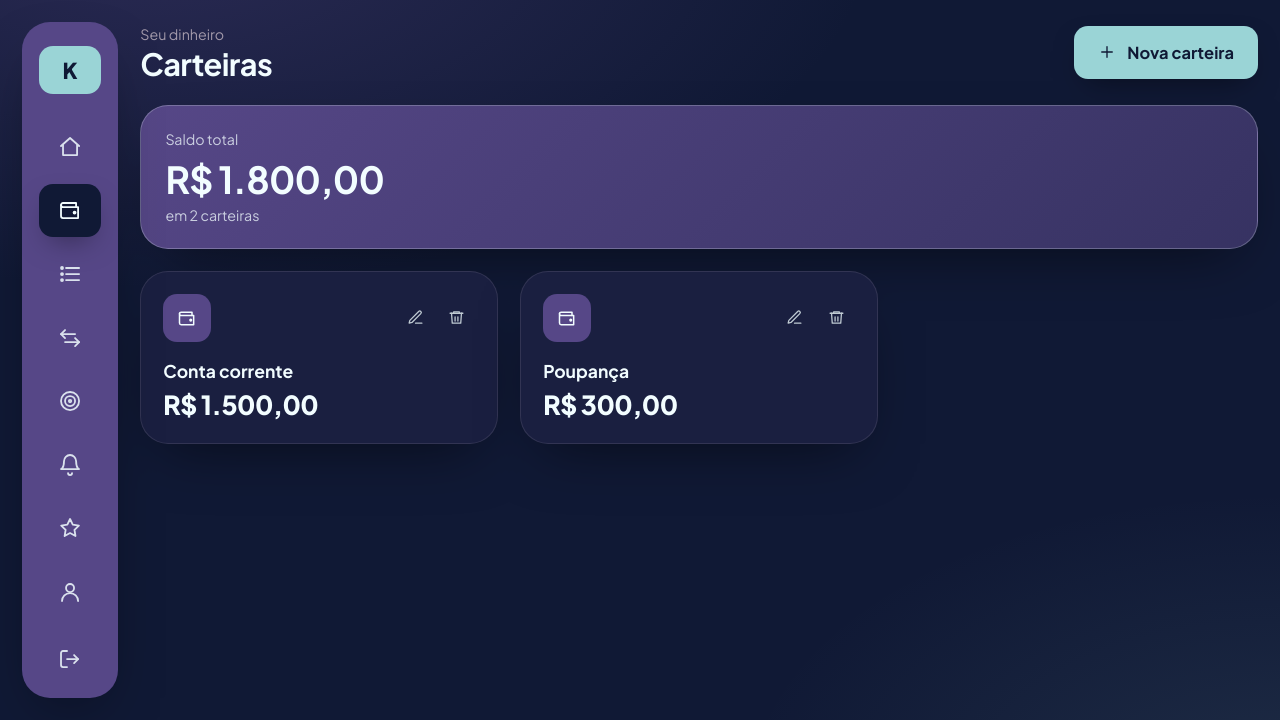
carteiras › cria uma carteira: converte o saldo digitado, avisa e recarrega a lista
Expected: the text "Conta corrente" is shown, left=163, top=360, right=293, bottom=382
Click the button "Nova carteira". click: x=1166, y=52
box: left=1074, top=26, right=1258, bottom=79
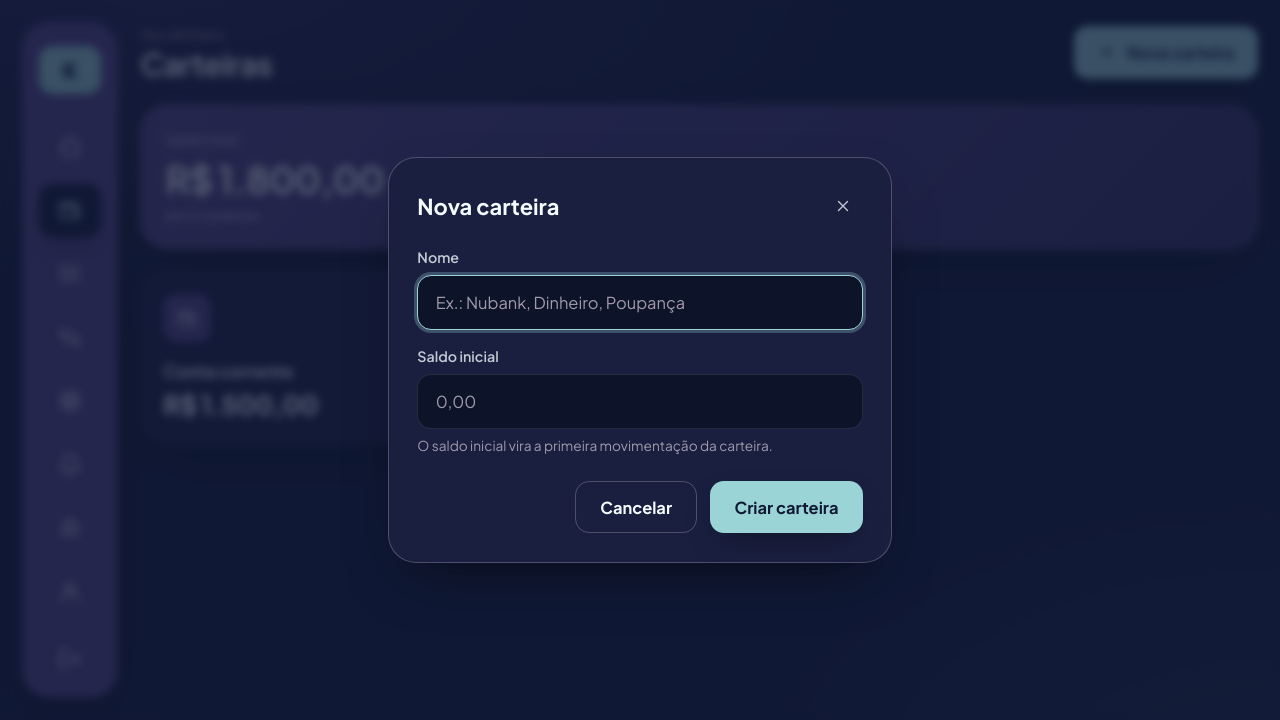
Type "Reserva" into the field labelled "Nome". click: x=640, y=302
box: left=434, top=276, right=846, bottom=329
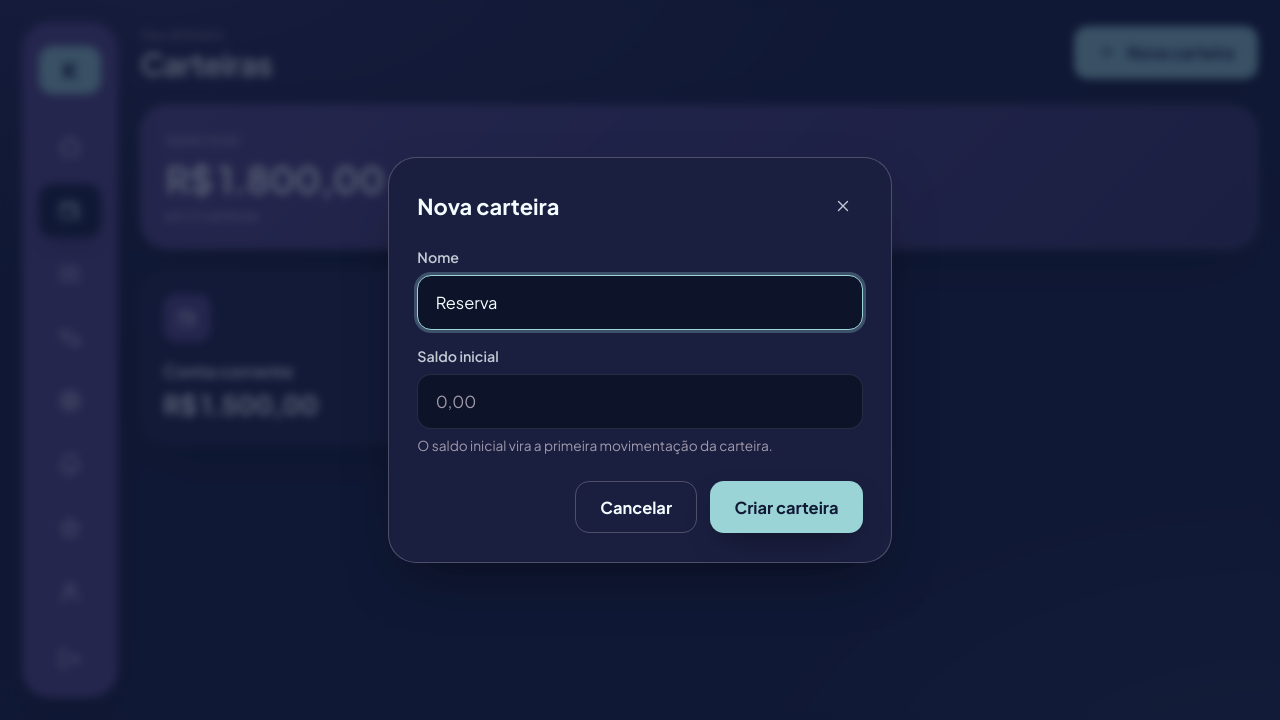
Type "1.234,56" into the field labelled "Saldo inicial". click: x=640, y=401
box: left=434, top=375, right=846, bottom=428
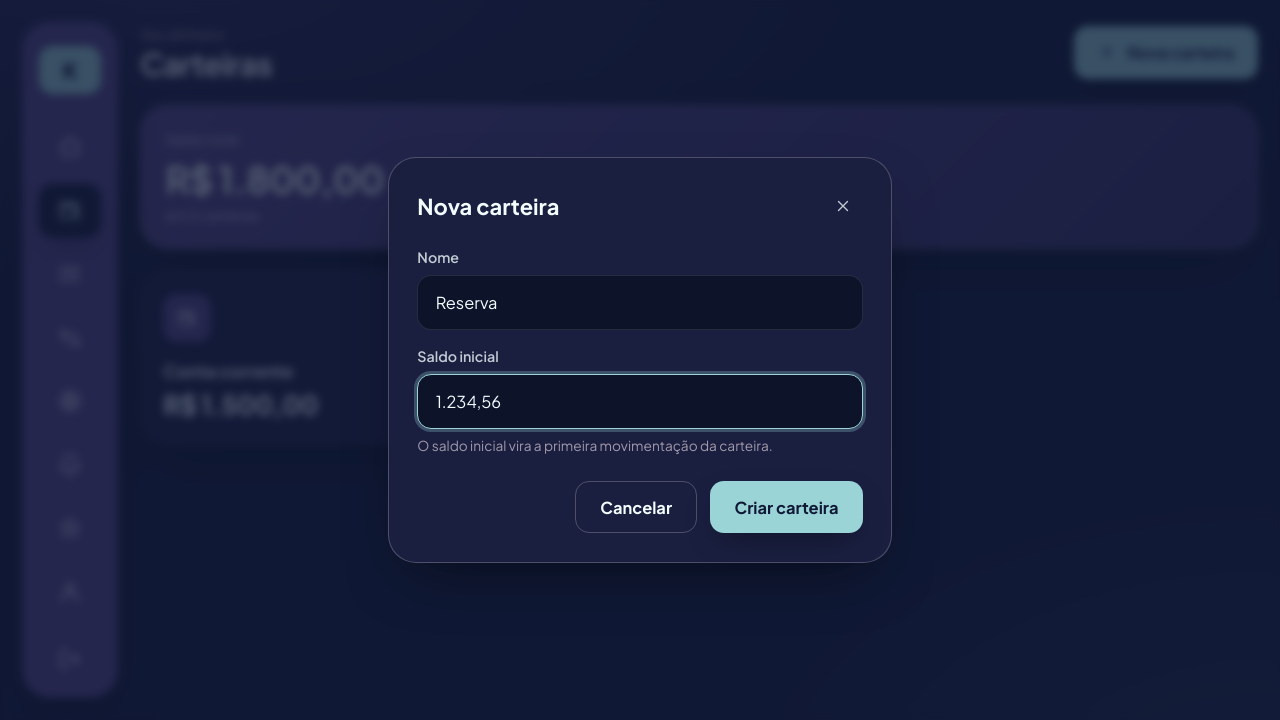
Click the button "Criar carteira". click: x=786, y=507
box: left=710, top=481, right=863, bottom=533
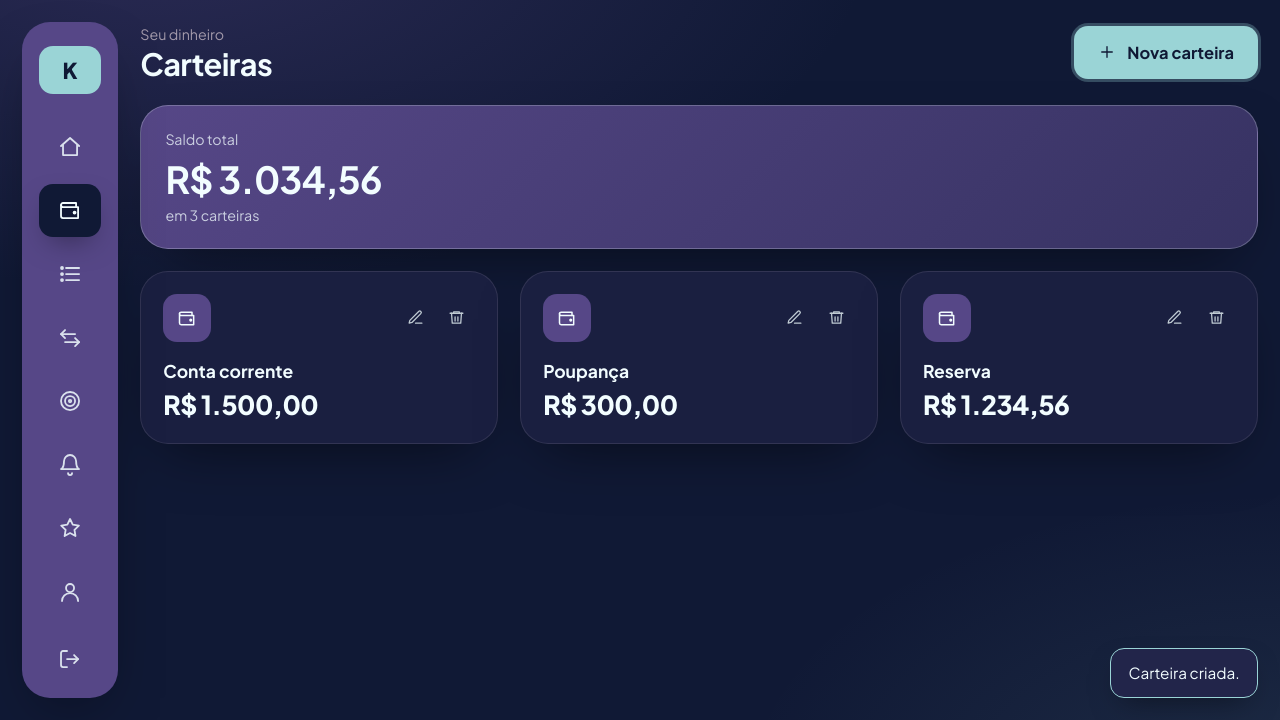
Expected: the text "Carteira criada." is shown, left=1110, top=648, right=1258, bottom=698
Expected: the text "Reserva" is shown, left=923, top=360, right=991, bottom=382
Expected: the dialog is gone
